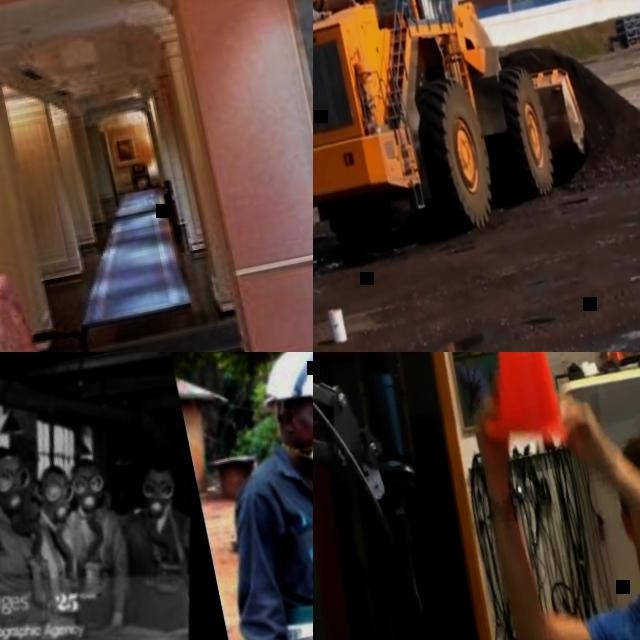Mask: (0, 482, 26, 517), (142, 490, 170, 518), (75, 488, 103, 513), (46, 496, 72, 522), (25, 493, 44, 526), (302, 420, 313, 473)
NO-Hardhat: (616, 427, 640, 498), (35, 464, 66, 484), (67, 456, 99, 475), (145, 459, 173, 479), (0, 442, 20, 469)
NO-Safety Vest: (230, 434, 313, 640), (119, 502, 208, 632), (26, 508, 87, 640), (58, 503, 128, 610), (0, 501, 50, 640)
Person: (464, 353, 640, 640), (184, 352, 313, 640), (103, 459, 210, 640)
Safety Cone: (440, 352, 587, 465)
machinery: (313, 0, 606, 270)
